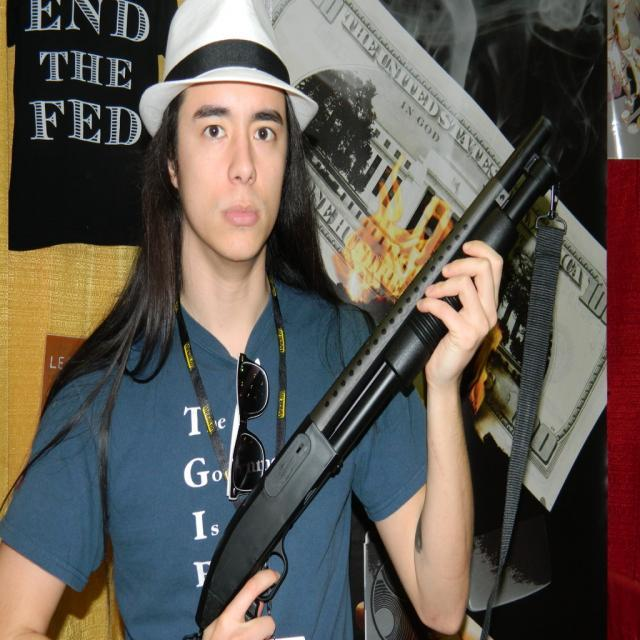weapon: (128, 93, 574, 618)
